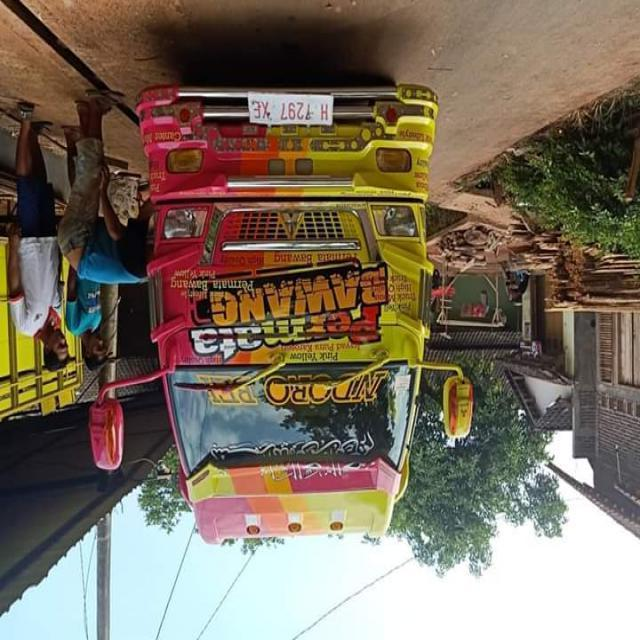truck: (88, 49, 476, 548)
